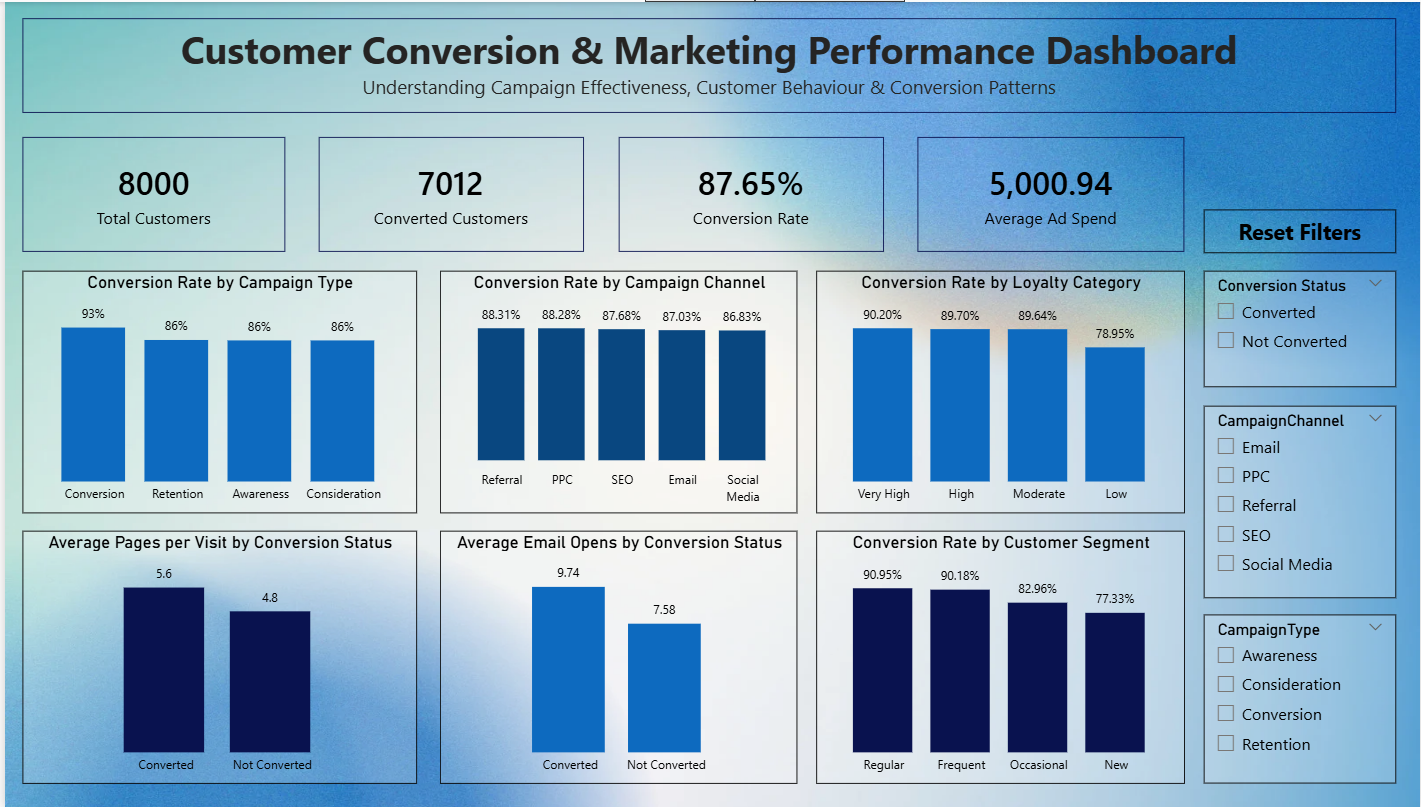

Layout of this report page (visuals, bound fields, positions):
{"tool":"powerbi","page":{"name":"Marketing Performance Overview","canvas":[1400,800],"ordinal":0},"visuals":[{"type":"cardVisual","fields":{"Data":["CountNonNull(digital_marketing_campaign_data.CustomerID)"]},"box":[17.4,134,260.1,113.9],"z":0},{"type":"cardVisual","fields":{"Data":["Sum(digital_marketing_campaign_data.Conversion)"]},"box":[311,134,262.7,113.9],"z":1000},{"type":"cardVisual","fields":{"Data":["Avg(digital_marketing_campaign_data.AdSpend)"]},"box":[903.5,134,264.1,113.9],"z":2000},{"type":"cardVisual","fields":{"Data":["digital_marketing_campaign_data.Conversion Rate"]},"box":[607.2,134,262.7,113.9],"z":3000},{"type":"clusteredColumnChart","title":"Conversion Rate by Campaign Type","fields":{"Category":["digital_marketing_campaign_data.CampaignType"],"Y":["Avg(digital_marketing_campaign_data.Conversion)"]},"box":[17.4,265.4,390.1,239.9],"z":3001},{"type":"clusteredColumnChart","title":"Conversion Rate by Campaign Channel","fields":{"Category":["digital_marketing_campaign_data.CampaignChannel"],"Y":["Avg(digital_marketing_campaign_data.Conversion)"]},"box":[430.3,265.4,353.9,239.9],"z":3002},{"type":"clusteredColumnChart","title":"Average Pages per Visit by Conversion Status","fields":{"Category":["digital_marketing_campaign_data.Conversion Status"],"Y":["Avg(digital_marketing_campaign_data.PagesPerVisit)"]},"box":[17.4,522.8,390.1,250.7],"z":3003},{"type":"clusteredColumnChart","title":"Average Email Opens by Conversion Status","fields":{"Category":["digital_marketing_campaign_data.Conversion Status"],"Y":["Avg(digital_marketing_campaign_data.EmailOpens)"]},"box":[430.3,522.8,353.9,250.7],"z":3004},{"type":"clusteredColumnChart","title":"Conversion Rate by Customer Segment","fields":{"Category":["digital_marketing_campaign_data.CustomerSegment"],"Y":["Avg(digital_marketing_campaign_data.Conversion)"]},"box":[803,522.8,364.6,250.7],"z":3005},{"type":"clusteredColumnChart","title":"Conversion Rate by Loyalty Category","fields":{"Category":["digital_marketing_campaign_data.LoyaltyCategory"],"Y":["Avg(digital_marketing_campaign_data.Conversion)"]},"box":[803,265.4,364.6,239.9],"z":3006},{"type":"slicer","fields":{"Values":["digital_marketing_campaign_data.CampaignType"]},"box":[1186.3,605.9,190.3,167.6],"z":3007},{"type":"slicer","fields":{"Values":["digital_marketing_campaign_data.CampaignChannel"]},"box":[1186.3,399.5,190.3,190.3],"z":3008},{"type":"slicer","fields":{"Values":["digital_marketing_campaign_data.Conversion Status"]},"box":[1186.3,265.4,190.3,115.3],"z":3009},{"type":"textbox","box":[17.4,16.1,1359.3,93.8],"z":3010},{"type":"actionButton","title":"Reset Filters","box":[1186.3,205.1,190.3,42.9],"z":3011}]}

Visuals, with their boxes in screenshot pixels (x1, y1, x2, y2), scaled from the page's 1400x800 canvas onto the 1421x807 screenshot:
cardVisual - CountNonNull(digital_marketing_campaign_data.CustomerID): left=18, top=135, right=282, bottom=250
cardVisual - Sum(digital_marketing_campaign_data.Conversion): left=316, top=135, right=582, bottom=250
cardVisual - Avg(digital_marketing_campaign_data.AdSpend): left=917, top=135, right=1185, bottom=250
cardVisual - digital_marketing_campaign_data.Conversion Rate: left=616, top=135, right=883, bottom=250
"Conversion Rate by Campaign Type" clusteredColumnChart: left=18, top=268, right=414, bottom=510
"Conversion Rate by Campaign Channel" clusteredColumnChart: left=437, top=268, right=796, bottom=510
"Average Pages per Visit by Conversion Status" clusteredColumnChart: left=18, top=527, right=414, bottom=780
"Average Email Opens by Conversion Status" clusteredColumnChart: left=437, top=527, right=796, bottom=780
"Conversion Rate by Customer Segment" clusteredColumnChart: left=815, top=527, right=1185, bottom=780
"Conversion Rate by Loyalty Category" clusteredColumnChart: left=815, top=268, right=1185, bottom=510
slicer - digital_marketing_campaign_data.CampaignType: left=1204, top=611, right=1397, bottom=780
slicer - digital_marketing_campaign_data.CampaignChannel: left=1204, top=403, right=1397, bottom=595
slicer - digital_marketing_campaign_data.Conversion Status: left=1204, top=268, right=1397, bottom=384
textbox: left=18, top=16, right=1397, bottom=111
"Reset Filters" actionButton: left=1204, top=207, right=1397, bottom=250
